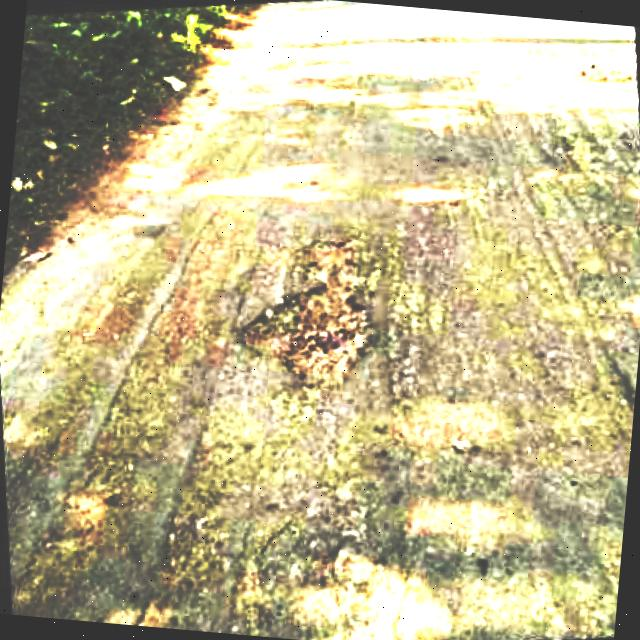pothole: (238, 222, 390, 398), (15, 487, 121, 622), (139, 513, 221, 632), (325, 535, 387, 640)
